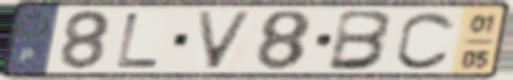8: (252, 8, 315, 73), (56, 8, 112, 72)
B: (324, 8, 397, 73)
C: (393, 9, 459, 72)
L: (113, 11, 163, 70)
V: (193, 9, 258, 71)
